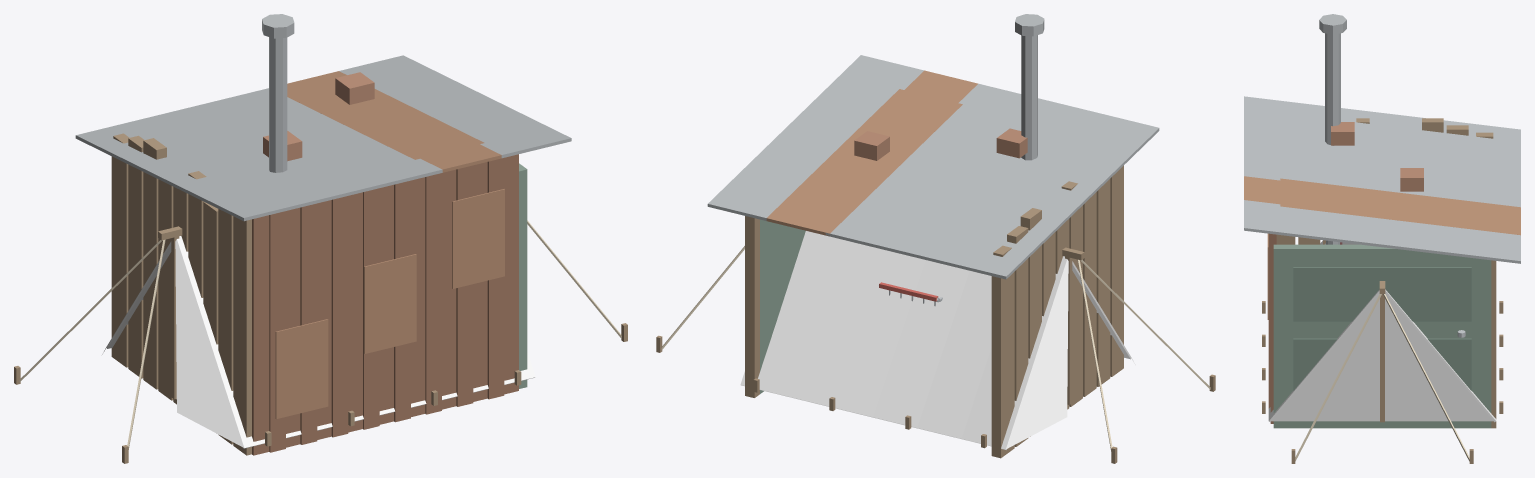
Rendered from camp_kit.glb.
3 views of the same model, side by side, from view 1: azimuth 30°, elevation 25°; view 2: azimuth 150°, elevation 25°; view 3: azimuth 270°, elevation 25° (orthographic). The views are drawn at different scales.
Parts seen in each view (by area): view 1: oc_shack_mesh, oc_tent_paint_mesh, oc_tent_trim_mesh; view 2: oc_shack_mesh, oc_tent_paint_mesh, oc_tent_trim_mesh; view 3: oc_shack_mesh, oc_tent_paint_mesh, oc_tent_trim_mesh.
Boxes of the visible parts, left/top/right/bottom form: oc_shack_mesh: left=75, top=14, right=571, bottom=455; oc_tent_paint_mesh: left=102, top=236, right=535, bottom=448; oc_tent_trim_mesh: left=14, top=220, right=627, bottom=463; oc_shack_mesh: left=707, top=14, right=1159, bottom=458; oc_tent_paint_mesh: left=740, top=231, right=1135, bottom=449; oc_tent_trim_mesh: left=656, top=246, right=1215, bottom=463; oc_shack_mesh: left=1244, top=14, right=1520, bottom=428; oc_tent_paint_mesh: left=1268, top=240, right=1496, bottom=422; oc_tent_trim_mesh: left=1262, top=281, right=1503, bottom=463.
Size of the model in its own units: 4.84 by 3.6 by 2.8.
